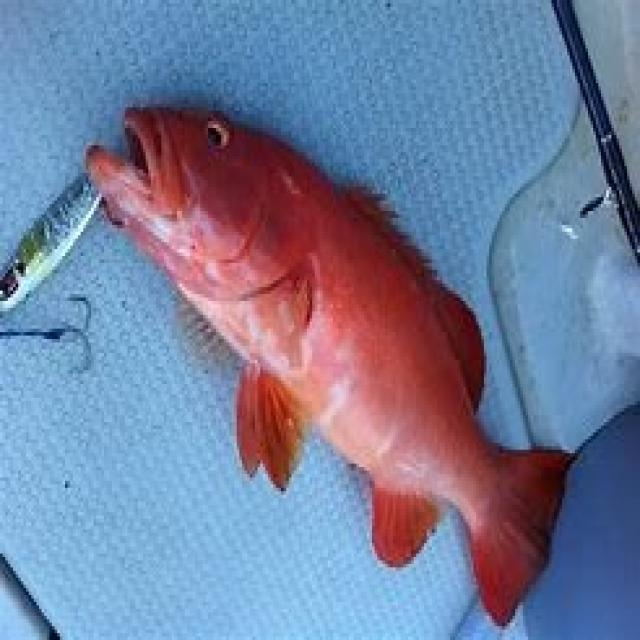Plectropomus-leopardus: (56, 73, 582, 632)
